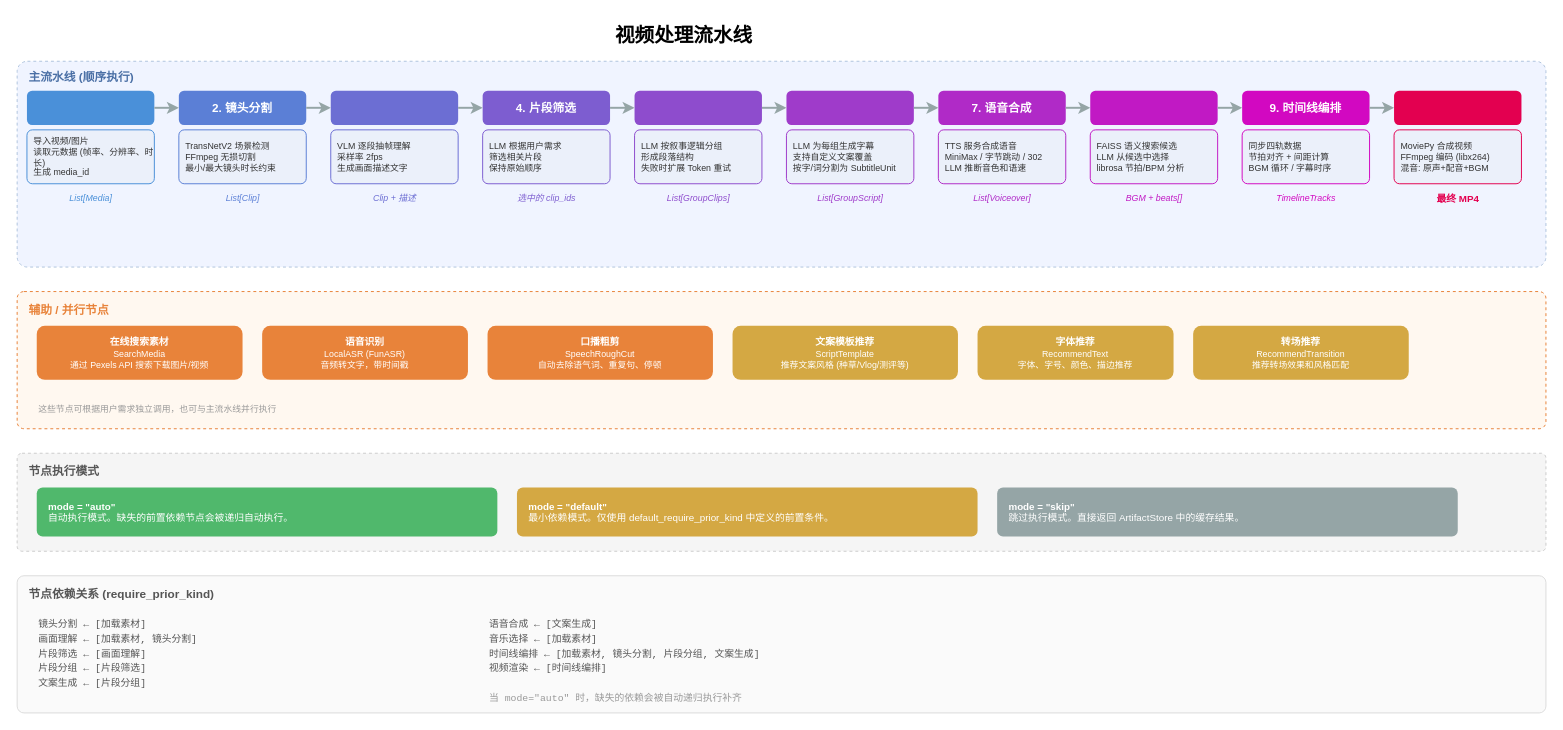
Some shapes in this 1563 by 730 pixel diagram are drawn without their labels. The shapes that lost their labels are listed below. From the top down, each one's centre as x and y in pixels, then its label:
pixel 90 107: 1. 加载素材
pixel 394 107: 3. 画面理解
pixel 697 107: 5. 片段分组
pixel 849 107: 6. 文案生成
pixel 1153 107: 8. 音乐选择
pixel 1457 107: 10. 视频渲染
